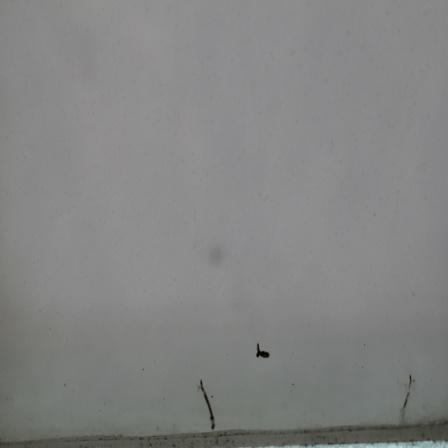Jentik-Nyamuk: (196, 375, 219, 433), (253, 339, 273, 362)
